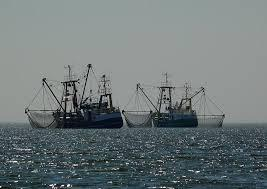Ship: (20, 55, 128, 138), (120, 74, 236, 139)
